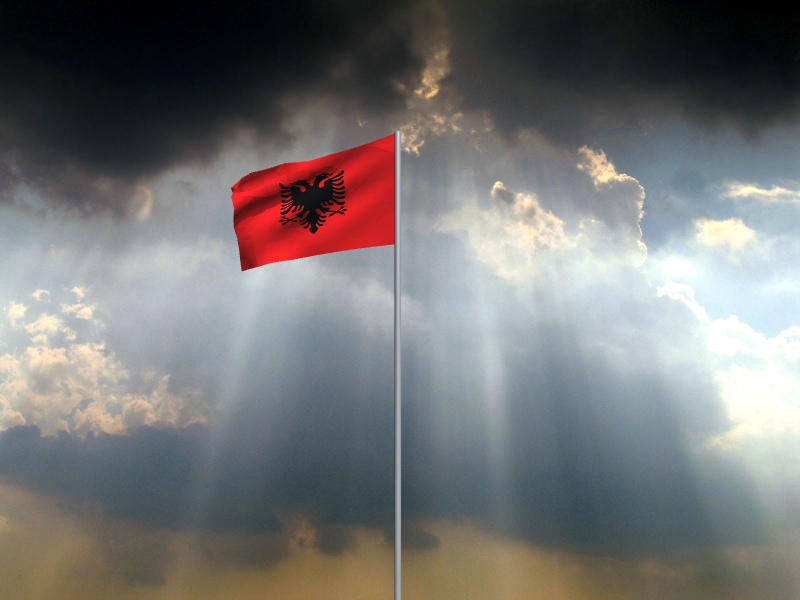al: (230, 134, 396, 274)
